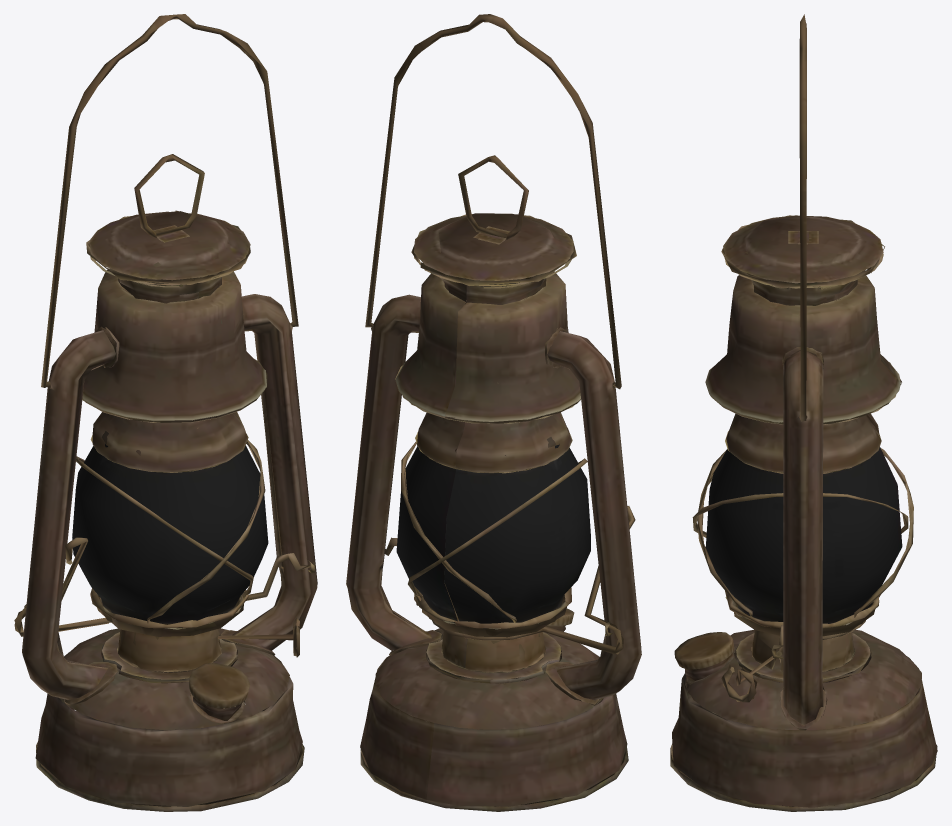
Rendered from oil-lantern.glb.
3 renders of one model, left to right at view 1: azimuth 30°, elevation 25°; view 2: azimuth 150°, elevation 25°; view 3: azimuth 270°, elevation 25°, orthographic.
Visible parts, largest first — view 1: oil-lantern; view 2: oil-lantern; view 3: oil-lantern.
Part boxes in pixels (x1,y1,x2,y2): oil-lantern: (14,14,317,811); oil-lantern: (346,14,641,811); oil-lantern: (670,14,937,811).
Size of the model in its own units: 0.1227 by 0.2941 by 0.0967.
Materials: 2 (2 with a texture image).
